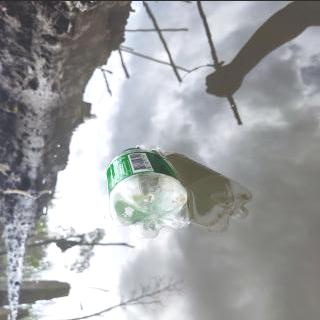bottle: (104, 145, 192, 239)
